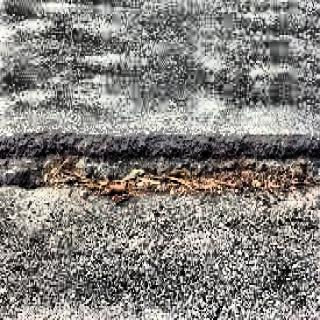pothole: (0, 118, 320, 216)
